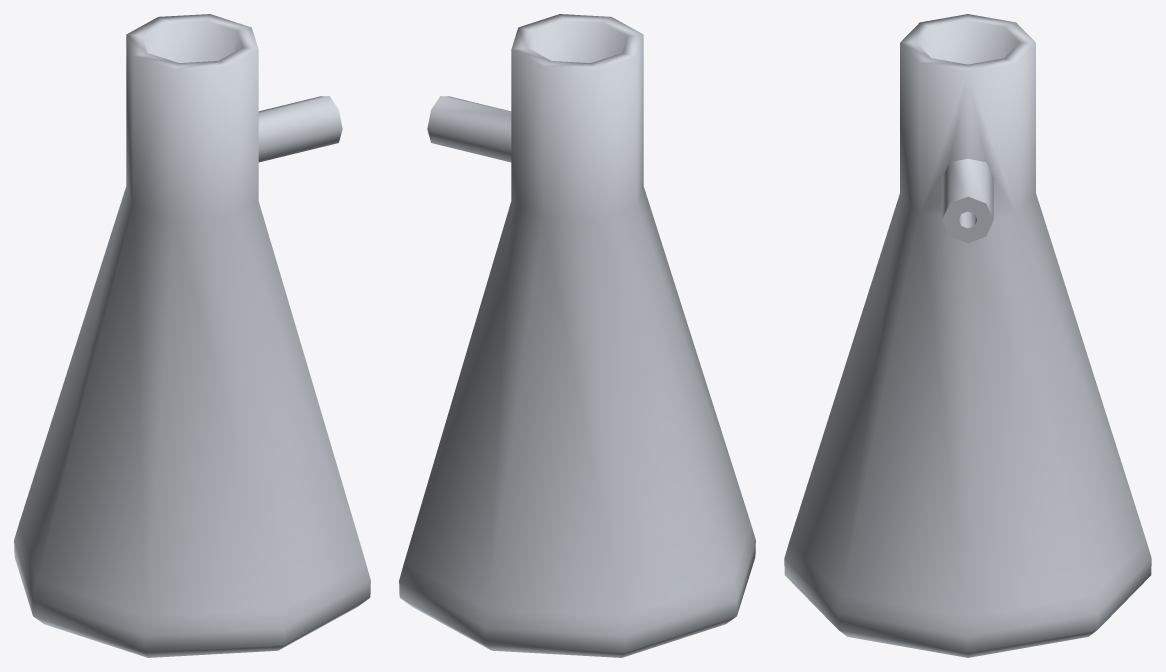
File: bottle_glassware_filtering_flask_small.glb
3 views of the same model, side by side, from view 1: azimuth 30°, elevation 25°; view 2: azimuth 150°, elevation 25°; view 3: azimuth 270°, elevation 25° (orthographic).
Parts seen in each view (by area): view 1: bottle_glassware_filtering_flask_small; view 2: bottle_glassware_filtering_flask_small; view 3: bottle_glassware_filtering_flask_small.
Boxes of the visible parts, x1,y1,x2,y2 form: bottle_glassware_filtering_flask_small: [14, 14, 370, 657]; bottle_glassware_filtering_flask_small: [399, 14, 755, 657]; bottle_glassware_filtering_flask_small: [784, 14, 1151, 657].
Size of the model in its own units: 8.95 by 14.65 by 8.95.
Materials: 1 (1 with a texture image).
